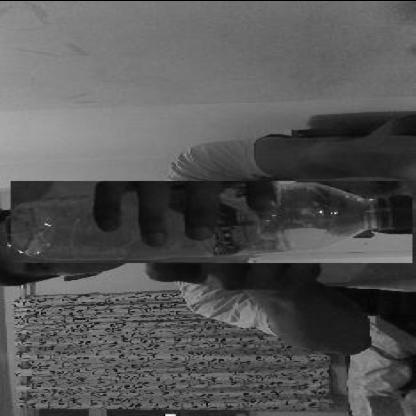plastic_bottles: (10, 180, 414, 262)
